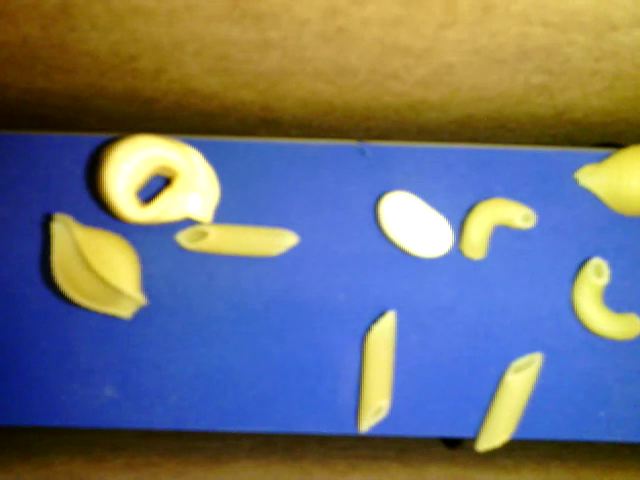elbow: (570, 255, 639, 339), (458, 198, 536, 262)
penne: (474, 349, 545, 454), (358, 309, 396, 435), (173, 222, 302, 257)
shell: (47, 212, 148, 321), (572, 143, 639, 217)
tortellini: (99, 132, 221, 223)
